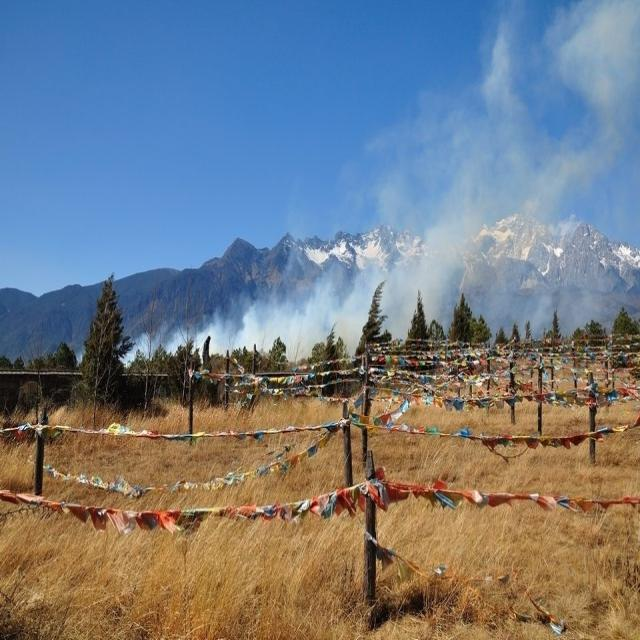Smoke: (116, 1, 640, 368)
